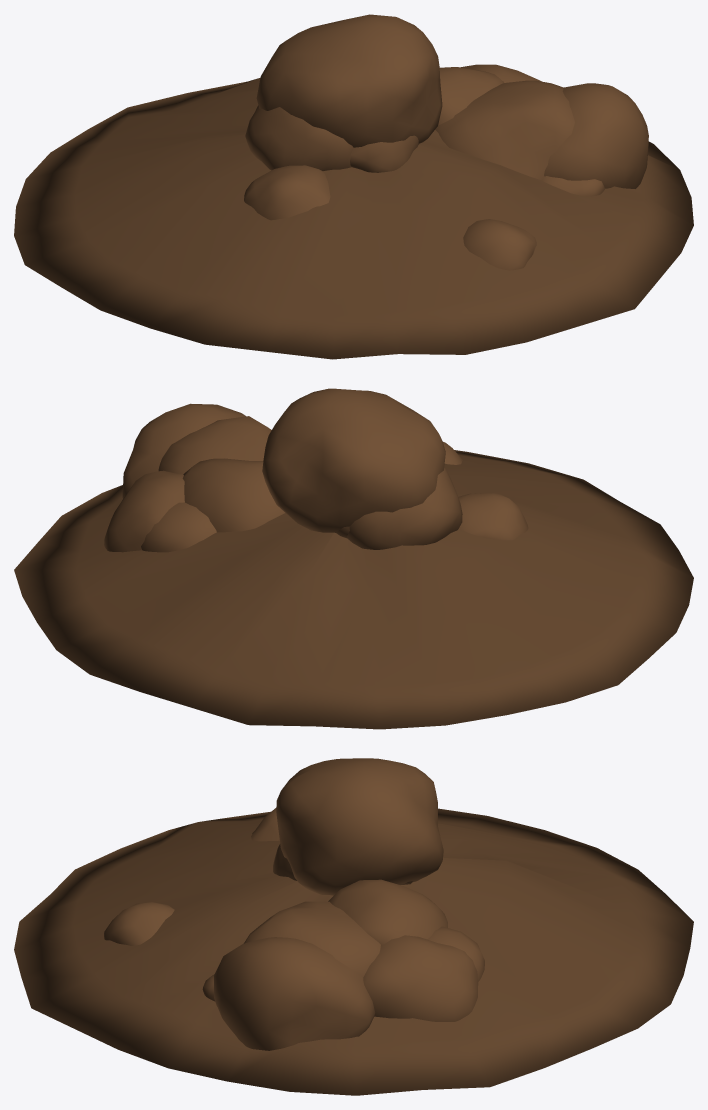
The model's file is nest-soilmounda.glb.
3 views of the same model, one above another, from view 1: azimuth 30°, elevation 25°; view 2: azimuth 150°, elevation 25°; view 3: azimuth 270°, elevation 25° (orthographic).
Visible parts, largest first — view 1: SoilMoundA__Base, SoilMoundA__Lumps; view 2: SoilMoundA__Base, SoilMoundA__Lumps; view 3: SoilMoundA__Base, SoilMoundA__Lumps.
Boxes of the visible parts, x1,y1,x2,y2 form: SoilMoundA__Base: (14,78,693,359); SoilMoundA__Lumps: (244,14,648,270); SoilMoundA__Base: (14,450,693,729); SoilMoundA__Lumps: (104,388,528,552); SoilMoundA__Base: (14,808,693,1095); SoilMoundA__Lumps: (104,758,484,1050).
Bounding box in the file's own units: 18.23 × 6.22 × 18.07.
